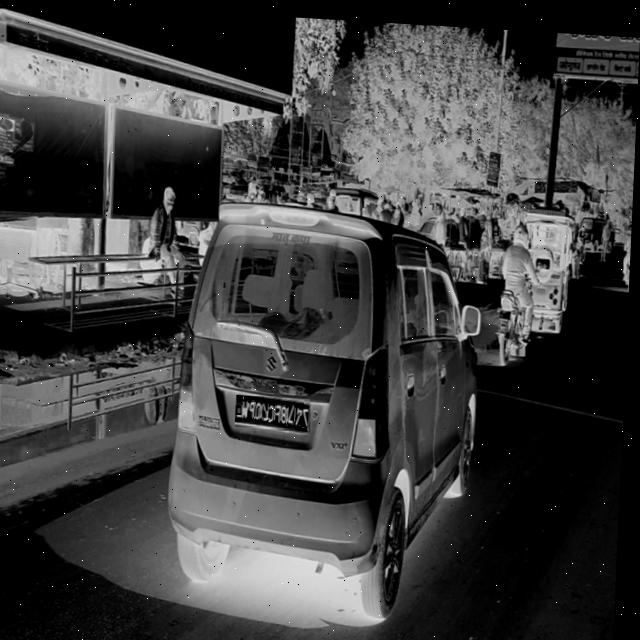0: (259, 398, 266, 418)
4: (299, 404, 306, 422)
7: (266, 399, 272, 418), (292, 402, 298, 421), (306, 404, 312, 423)
8: (285, 402, 292, 420)
C: (272, 400, 279, 420)
F: (279, 401, 285, 421)
IND: (239, 394, 248, 412)
Indian_registered: (239, 393, 313, 426)
M: (246, 396, 252, 416)
P: (253, 397, 259, 418)
